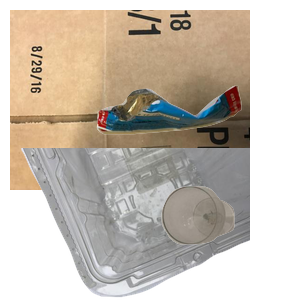cardboard: (10, 10, 250, 190)
glass: (159, 184, 300, 300)
plastic: (19, 148, 259, 300)
trash: (94, 83, 300, 210)
